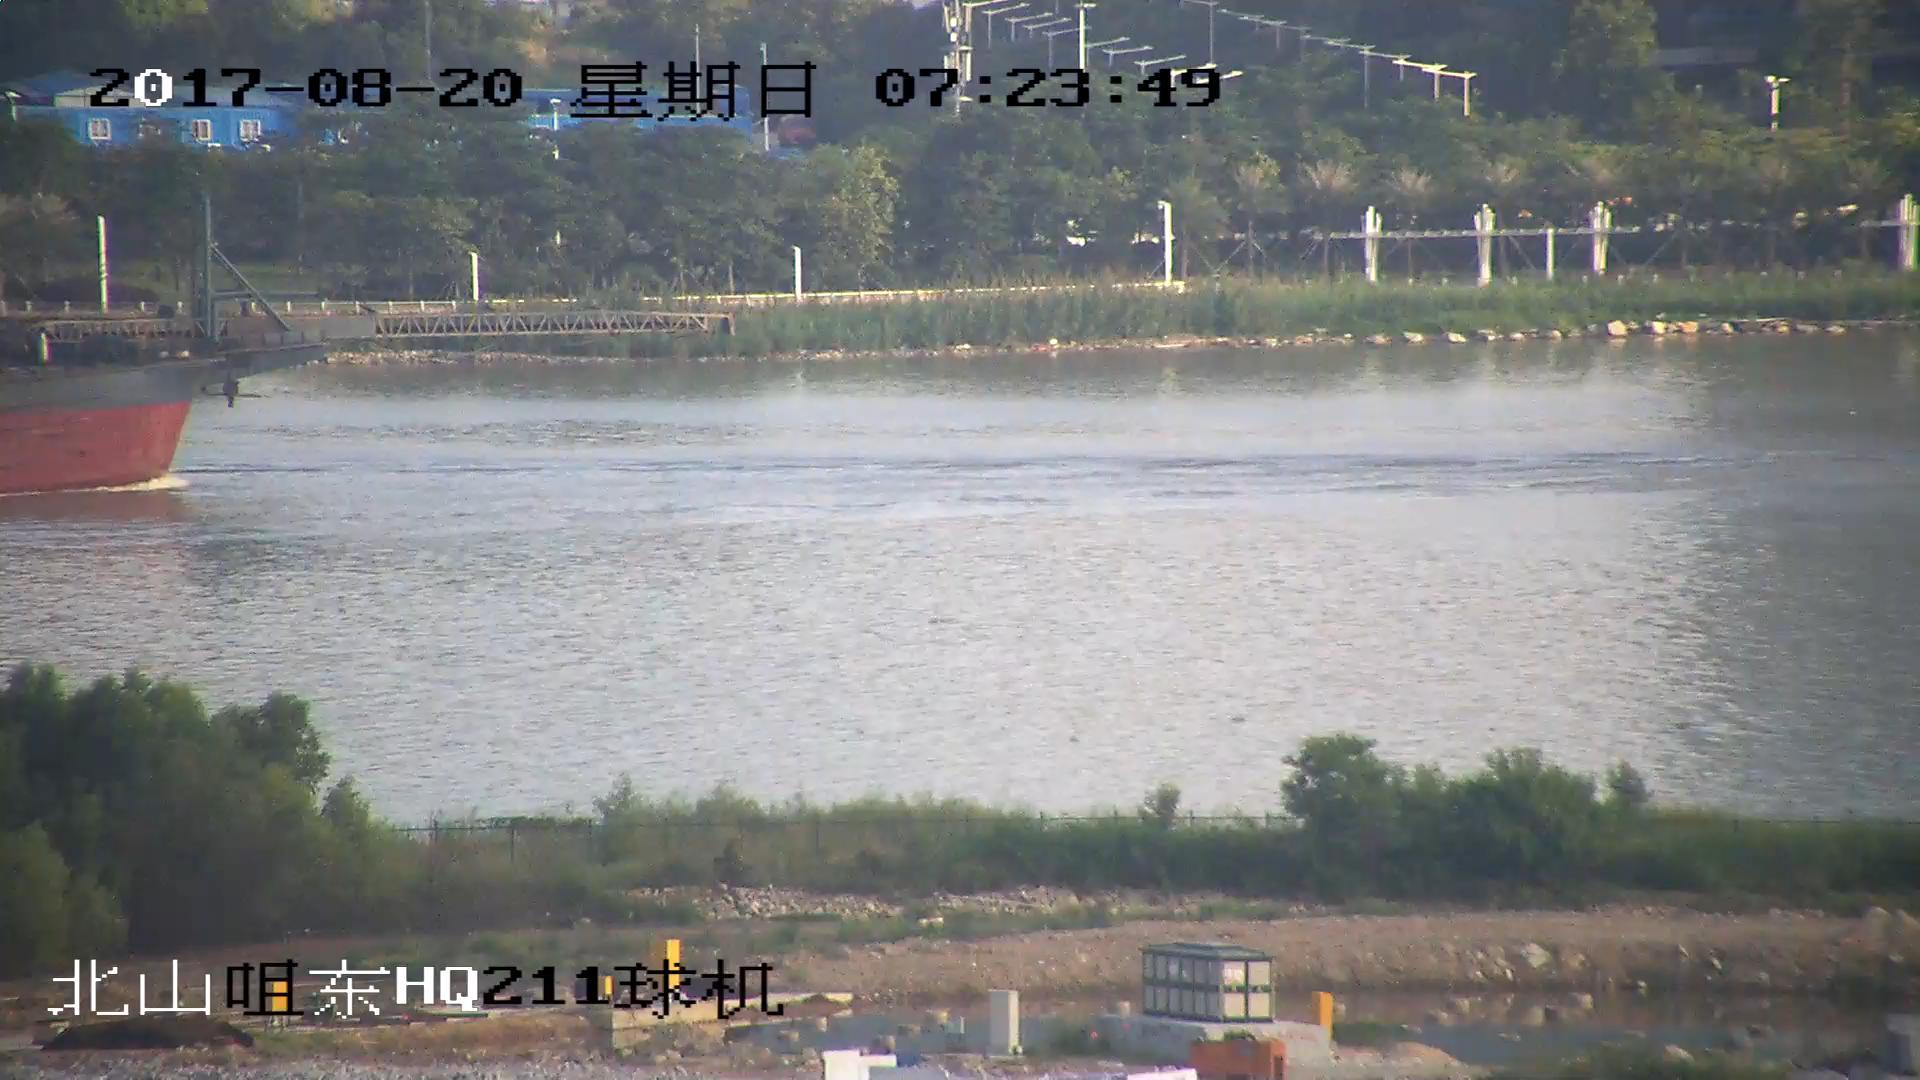Ship: (3, 200, 728, 495)
